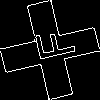F: (25, 25, 77, 66)
